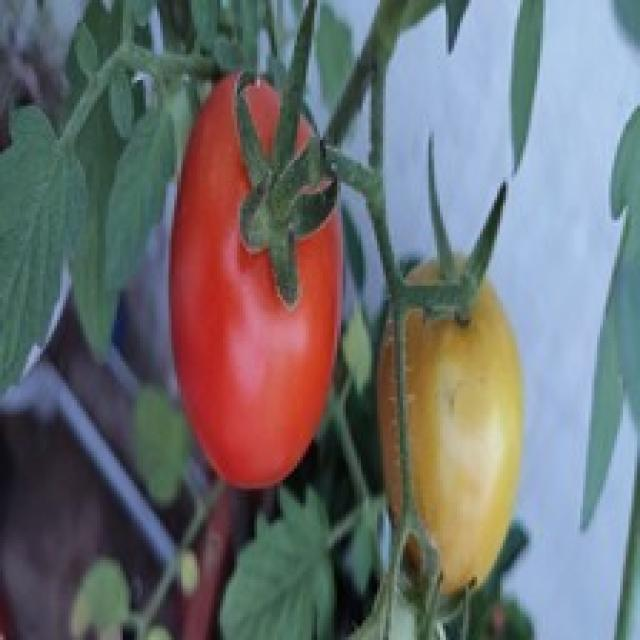tomato: (171, 74, 342, 488)
